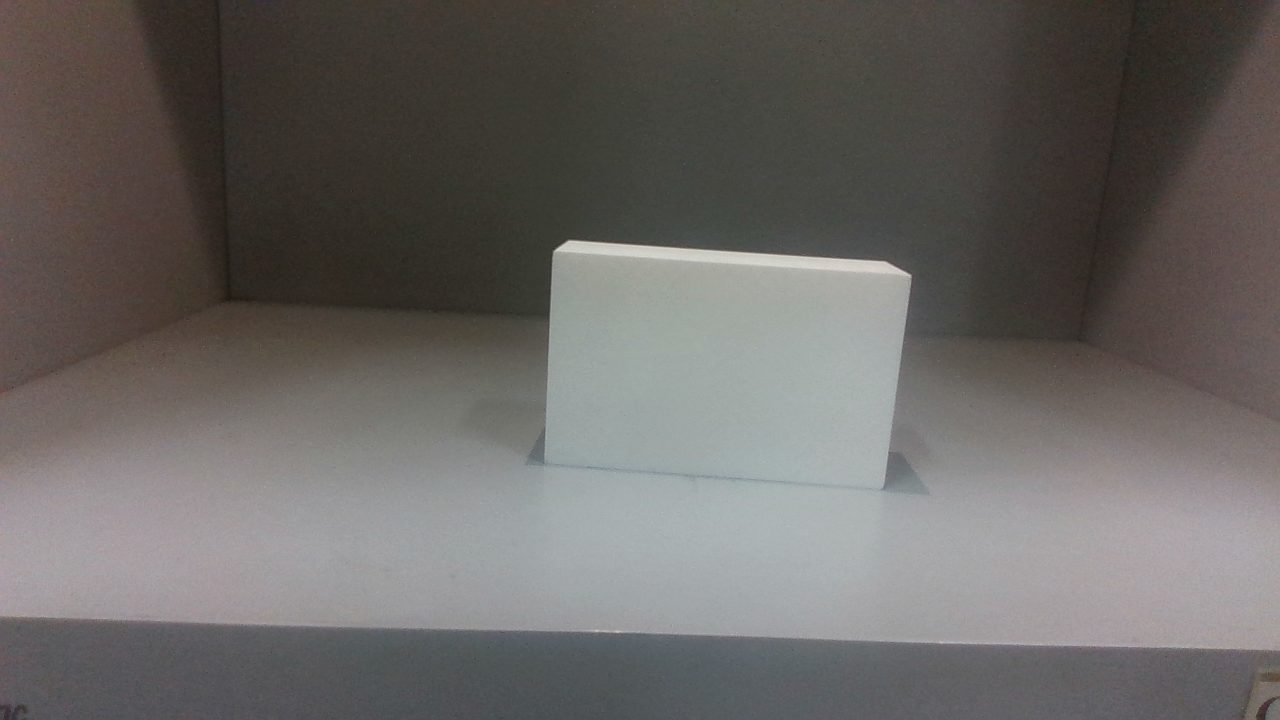Retangulo: (544, 240, 911, 488)
